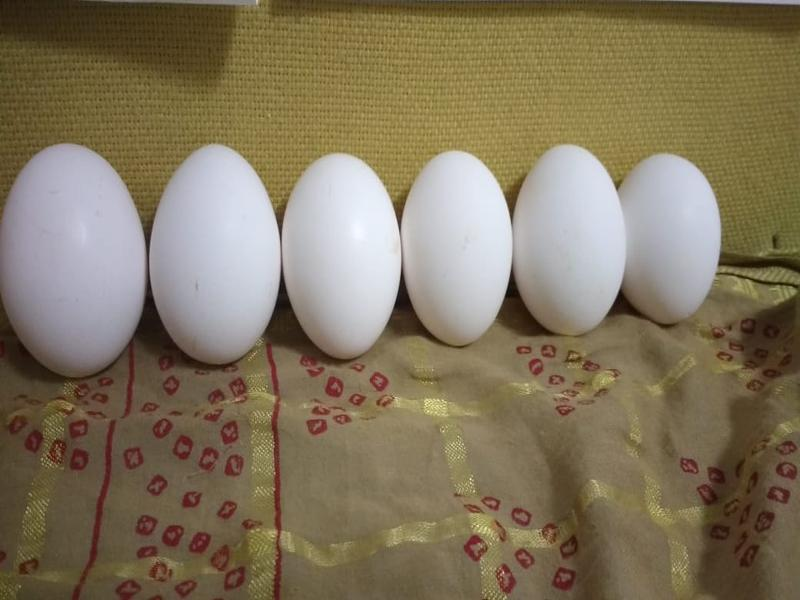egg: (285, 153, 413, 355)
